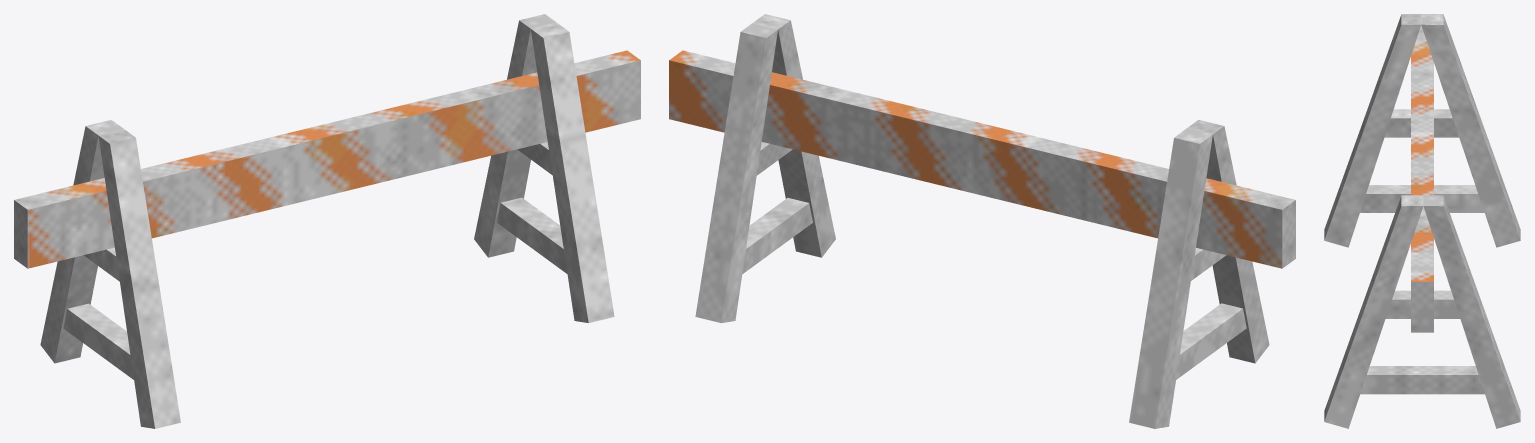
File: Blockade.fbx
3 renders of one model, left to right at view 1: azimuth 30°, elevation 25°; view 2: azimuth 150°, elevation 25°; view 3: azimuth 270°, elevation 25°, orthographic. The views are drawn at different scales.
Visible parts, largest first — view 1: Cube_0.001; view 2: Cube_0.001; view 3: Cube_0.001.
Part boxes in pixels (x1,y1,x2,y2): Cube_0.001: (14, 14, 640, 428); Cube_0.001: (669, 14, 1295, 428); Cube_0.001: (1324, 14, 1520, 428).
Size of the model in its own units: 300 by 122 by 97.25.
